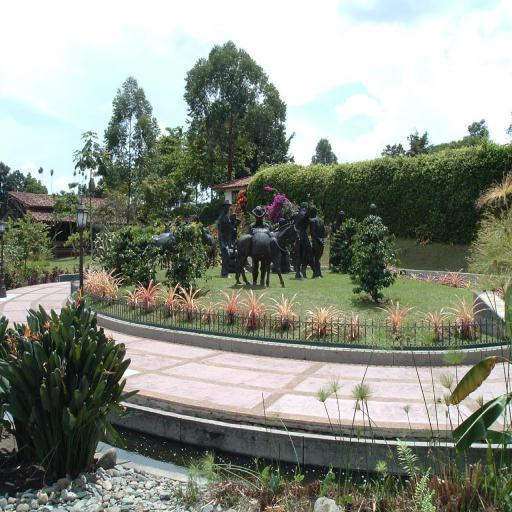horse: (232, 220, 300, 290)
